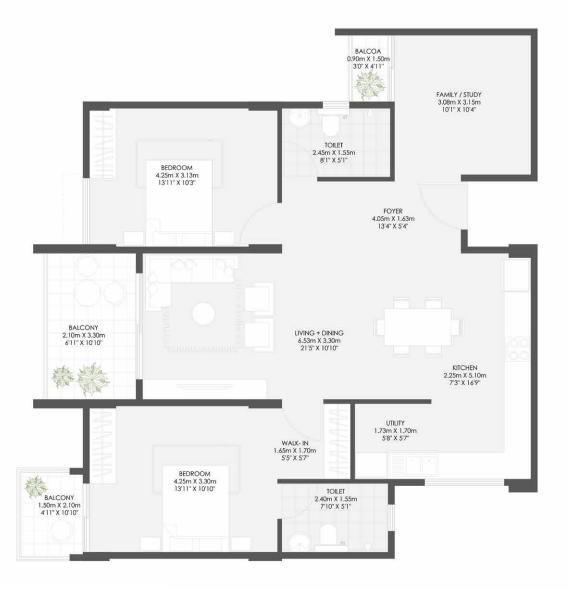Balcony: (44, 249, 142, 404), (18, 472, 87, 559)
Bed: (143, 161, 217, 247), (160, 463, 229, 551)
Bedroom: (87, 407, 279, 558), (85, 105, 278, 249), (419, 181, 466, 230), (235, 202, 282, 248), (285, 401, 323, 441)
Dining Room: (301, 255, 463, 402)
Dining table: (372, 296, 468, 362)
Foyer: (283, 181, 465, 251)
Kitchen: (439, 257, 533, 482)
Living Room: (146, 254, 299, 401)
Sofa: (148, 258, 234, 285), (246, 285, 274, 350), (148, 260, 170, 308)
Wardrobe: (87, 407, 117, 485), (322, 405, 349, 478), (90, 109, 116, 177)
balcoa: (349, 39, 390, 99)
commode: (319, 523, 337, 552), (323, 113, 343, 137)
sink: (387, 454, 430, 482), (287, 533, 308, 553), (289, 110, 311, 126)
stove: (505, 338, 531, 365)
study: (392, 37, 535, 177)
toilet: (281, 106, 391, 178), (282, 484, 393, 555)
tv: (146, 380, 269, 402)
utility: (354, 407, 434, 480)
walkin: (283, 406, 350, 481)
